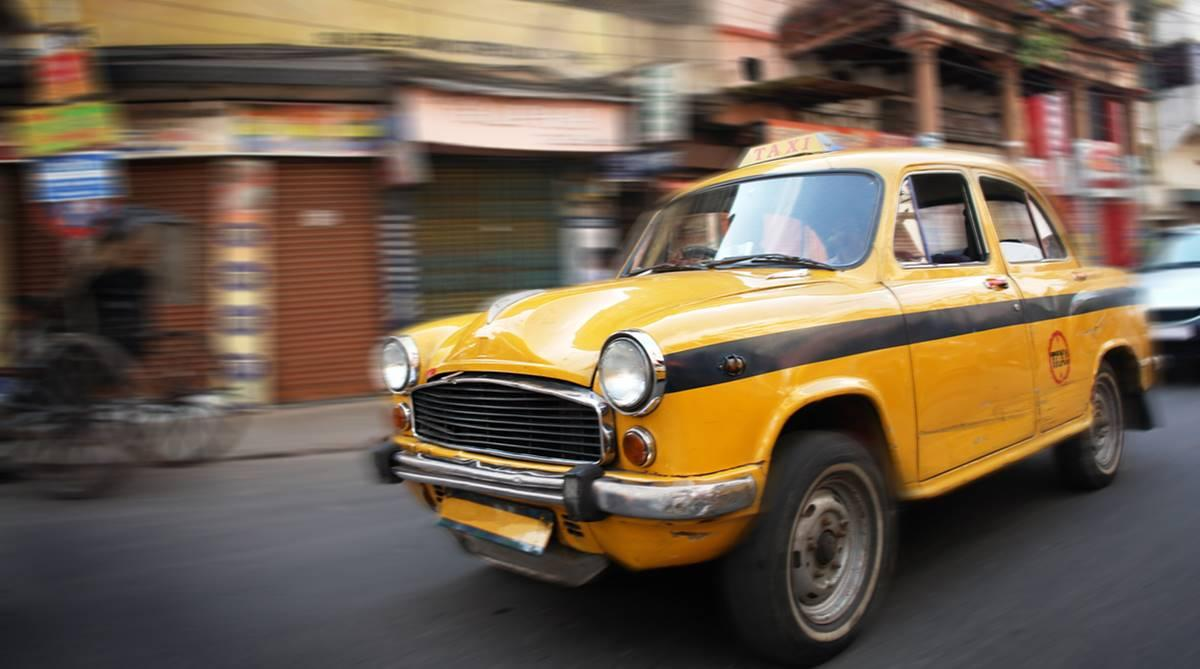taxi: (354, 106, 1200, 659)
